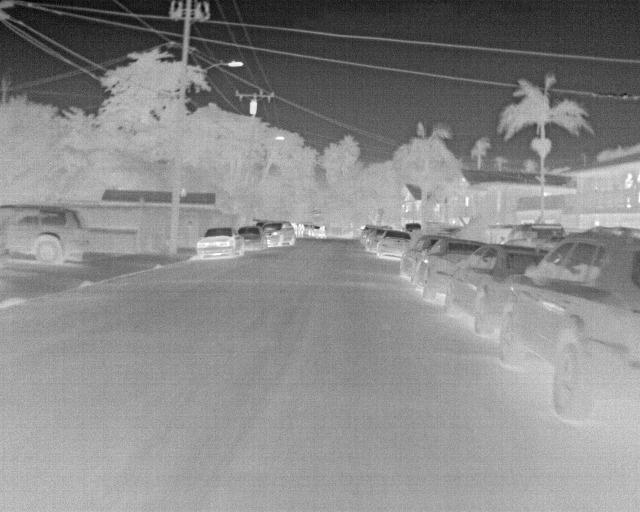car: (500, 224, 634, 424), (444, 242, 544, 339), (2, 202, 87, 271), (414, 237, 484, 307), (396, 234, 440, 284), (501, 222, 568, 252), (194, 226, 241, 261), (378, 232, 413, 261), (260, 221, 297, 248), (234, 227, 267, 256), (365, 228, 391, 252), (360, 224, 381, 245), (401, 222, 422, 240)
